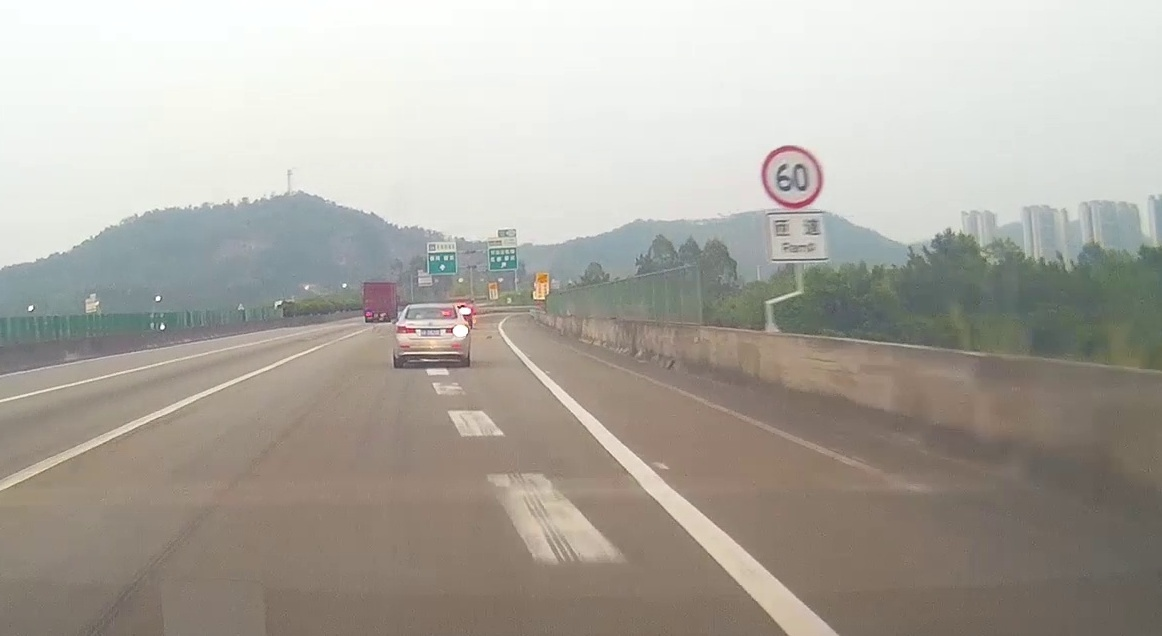L_light: (397, 326, 416, 334)
R_light: (445, 325, 469, 337)
T_light: (426, 314, 437, 318)
day-right: (393, 304, 470, 367)
